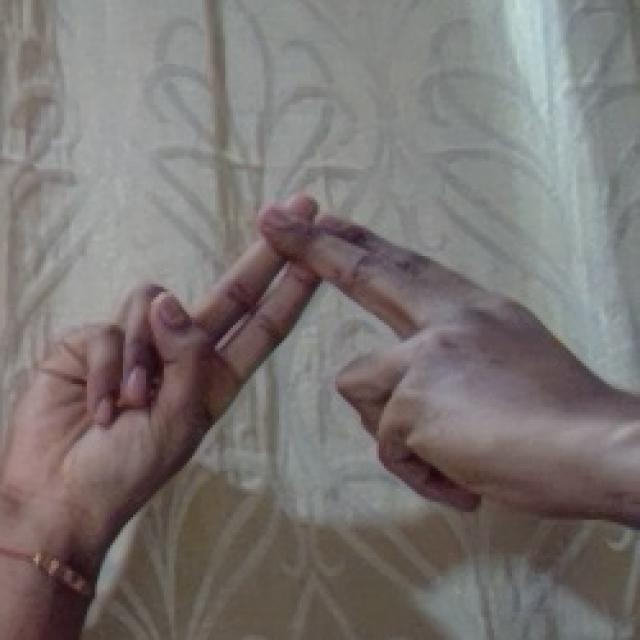Alphabet-F: (21, 176, 572, 540)
